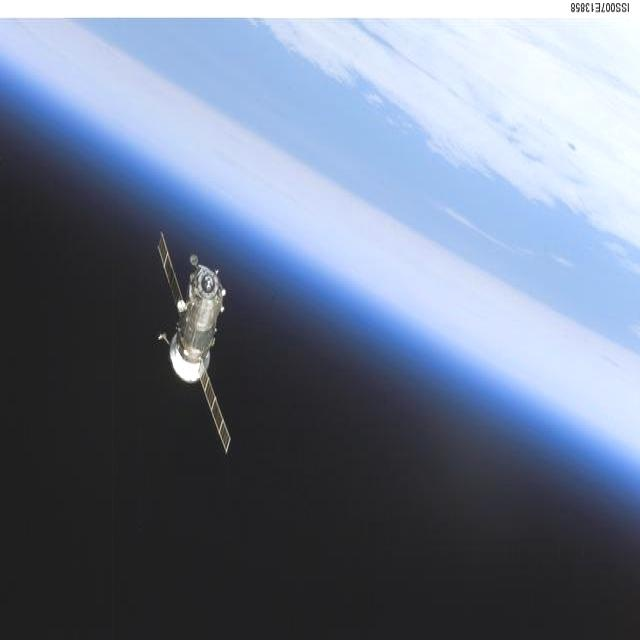satellite: (147, 225, 252, 447)
